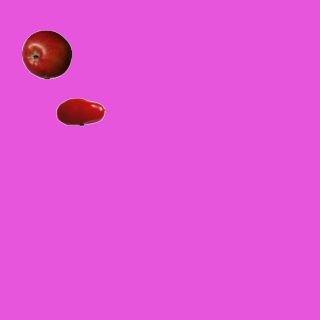Apple Braeburn: (21, 29, 71, 79)
Tomato 2: (55, 86, 105, 136)
